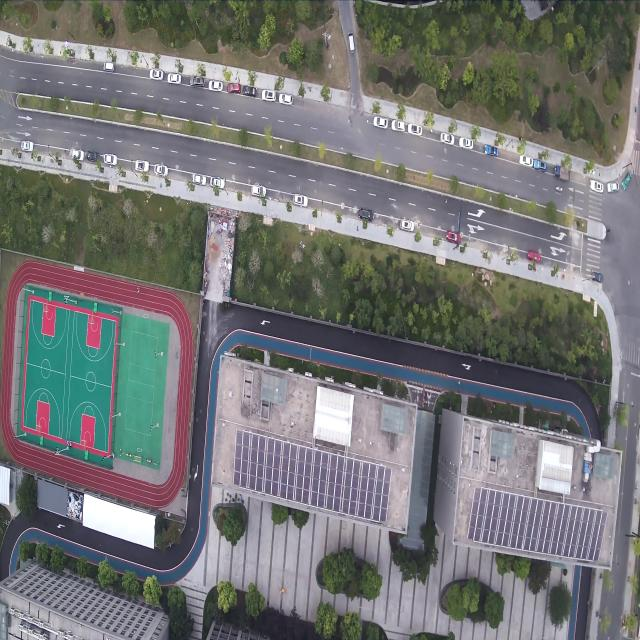drone: (329, 374, 334, 380)
